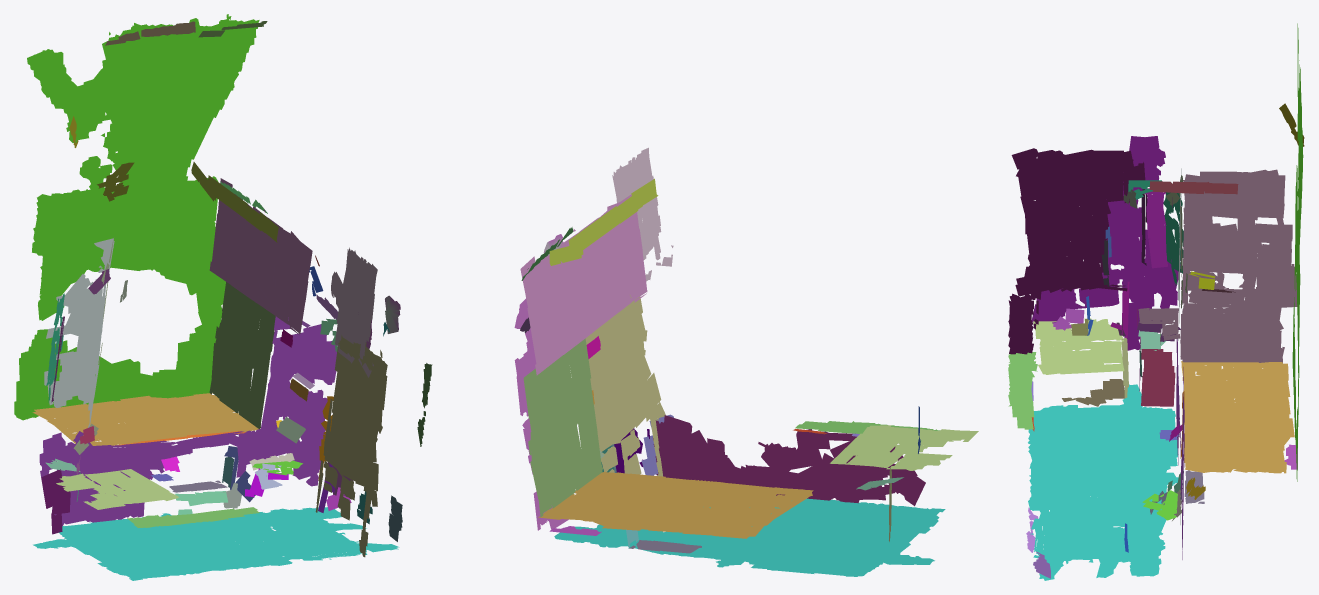
File: scene0164_00_simple.glb
The picture shows the model from 3 angles, left to right: view 1: azimuth 30°, elevation 25°; view 2: azimuth 150°, elevation 25°; view 3: azimuth 270°, elevation 25°; orthographic projection. The views are drawn at different scales.
Bounding box in the file's own units: 3.04 × 4.01 × 2.35.
